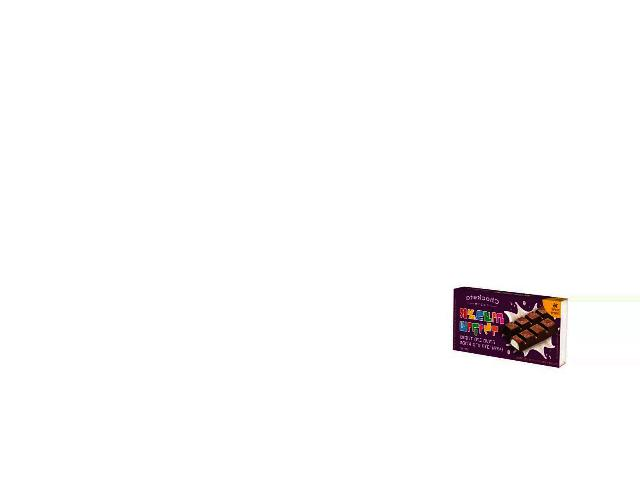chocolate: (444, 286, 569, 362)
